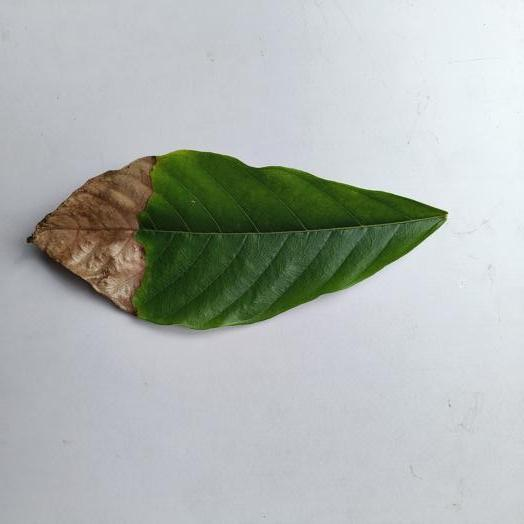Potassium: (29, 150, 445, 328)
